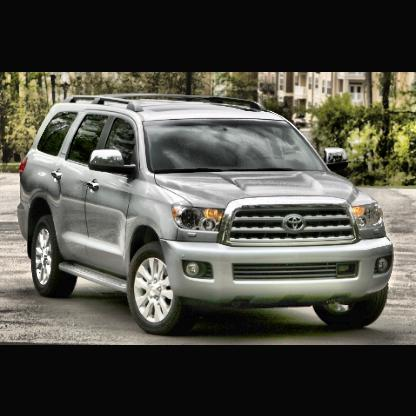Toyota Sequoia SUV 2012: (21, 94, 396, 336)
